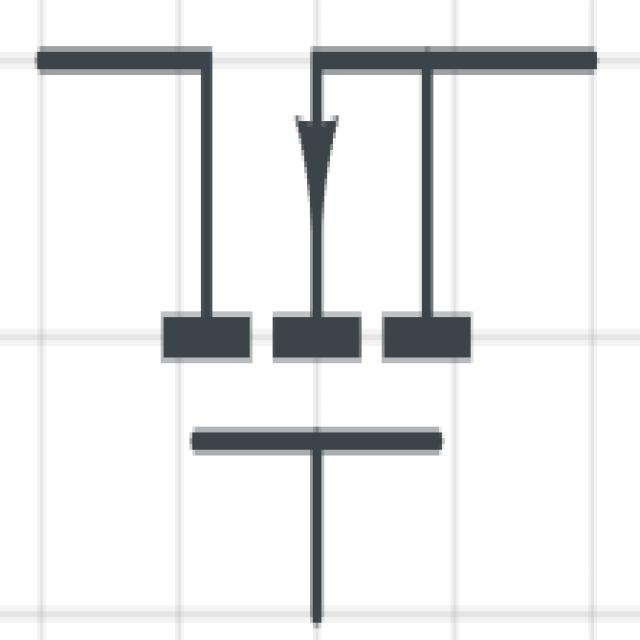nmos: (31, 26, 604, 627)
